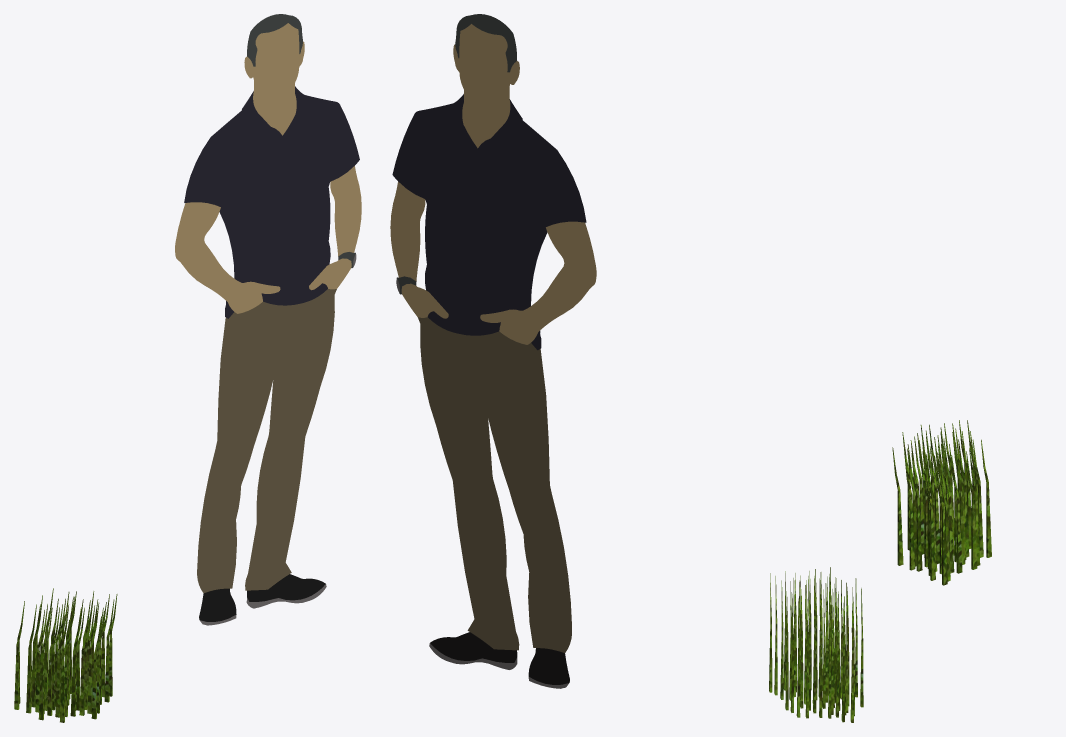
File: Shrub_2.dae
The picture shows the model from 3 angles, left to right: view 1: azimuth 30°, elevation 25°; view 2: azimuth 150°, elevation 25°; view 3: azimuth 270°, elevation 25°; orthographic projection. The views are drawn at different scales.
Visible parts, largest first — view 1: Chris (×10); view 2: Chris (×10); view 3: SketchUp (×23).
Part boxes in pixels (x1,y1,x2,y2): Chris (×10): [175, 14, 361, 621]; Chris (×10): [390, 14, 596, 684]; SketchUp (×23): [892, 431, 991, 585].
Size of the model in its own units: 46.86 by 14.64 by 69.5.
Materials: 7 (1 with a texture image).
